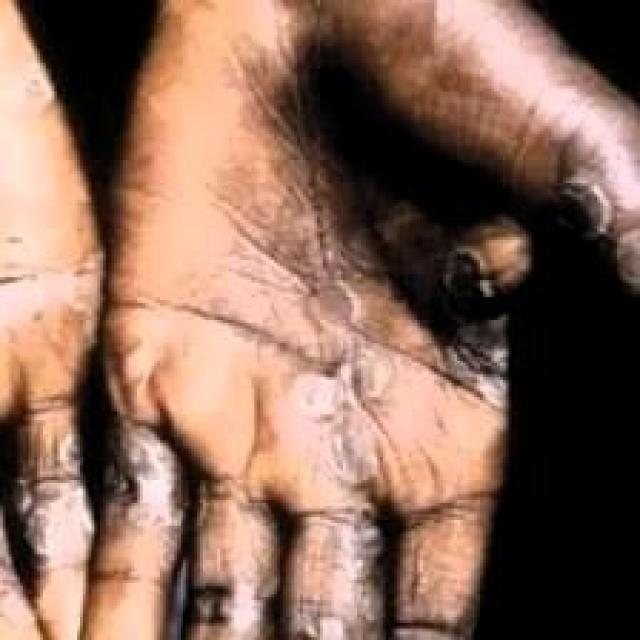monkeypox: (0, 15, 609, 640)
